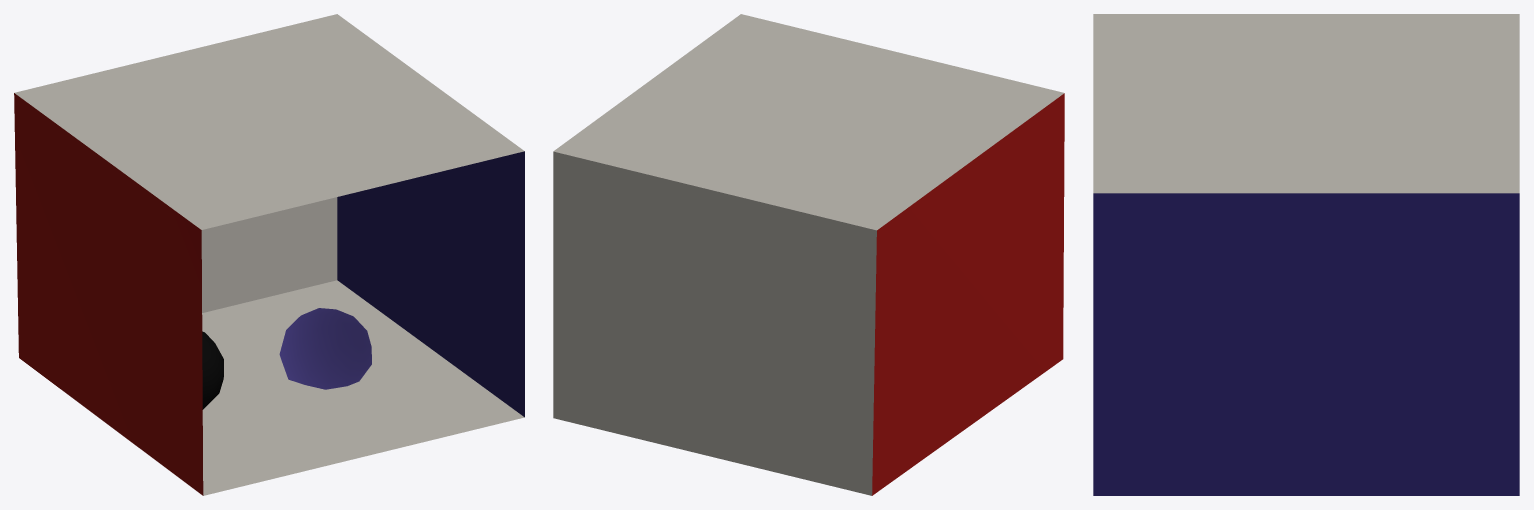
Rendered from CornellBox-Sphere.obj.
3 renders of one model, left to right at view 1: azimuth 30°, elevation 25°; view 2: azimuth 150°, elevation 25°; view 3: azimuth 270°, elevation 25°, orthographic. The views are drawn at different scales.
Visible parts, largest first — view 1: ceiling, leftWall, floor, rightWall, backWall, leftSphere, rightSphere; view 2: backWall, ceiling, leftWall; view 3: rightWall, ceiling.
Part boxes in pixels (x1,y1,x2,y2): ceiling: [14, 14, 524, 229]; leftWall: [14, 93, 203, 495]; floor: [202, 280, 524, 495]; rightWall: [337, 151, 524, 417]; backWall: [201, 197, 337, 312]; leftSphere: [279, 308, 371, 389]; rightSphere: [202, 331, 223, 409]; backWall: [553, 151, 876, 495]; ceiling: [553, 14, 1064, 230]; leftWall: [872, 93, 1064, 495]; rightWall: [1093, 193, 1519, 495]; ceiling: [1093, 14, 1519, 193].
Bounding box in the file's own units: 2.02 × 1.59 × 2.03.
